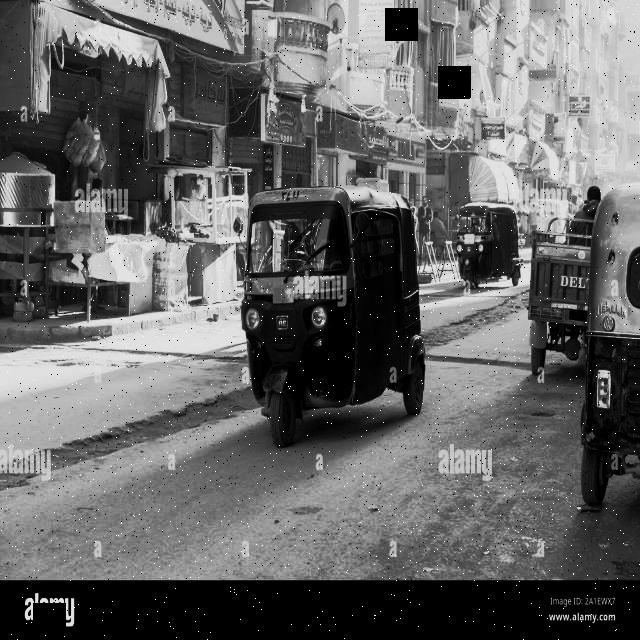Auto-Rickshaw: (225, 167, 439, 449), (449, 188, 525, 294)
